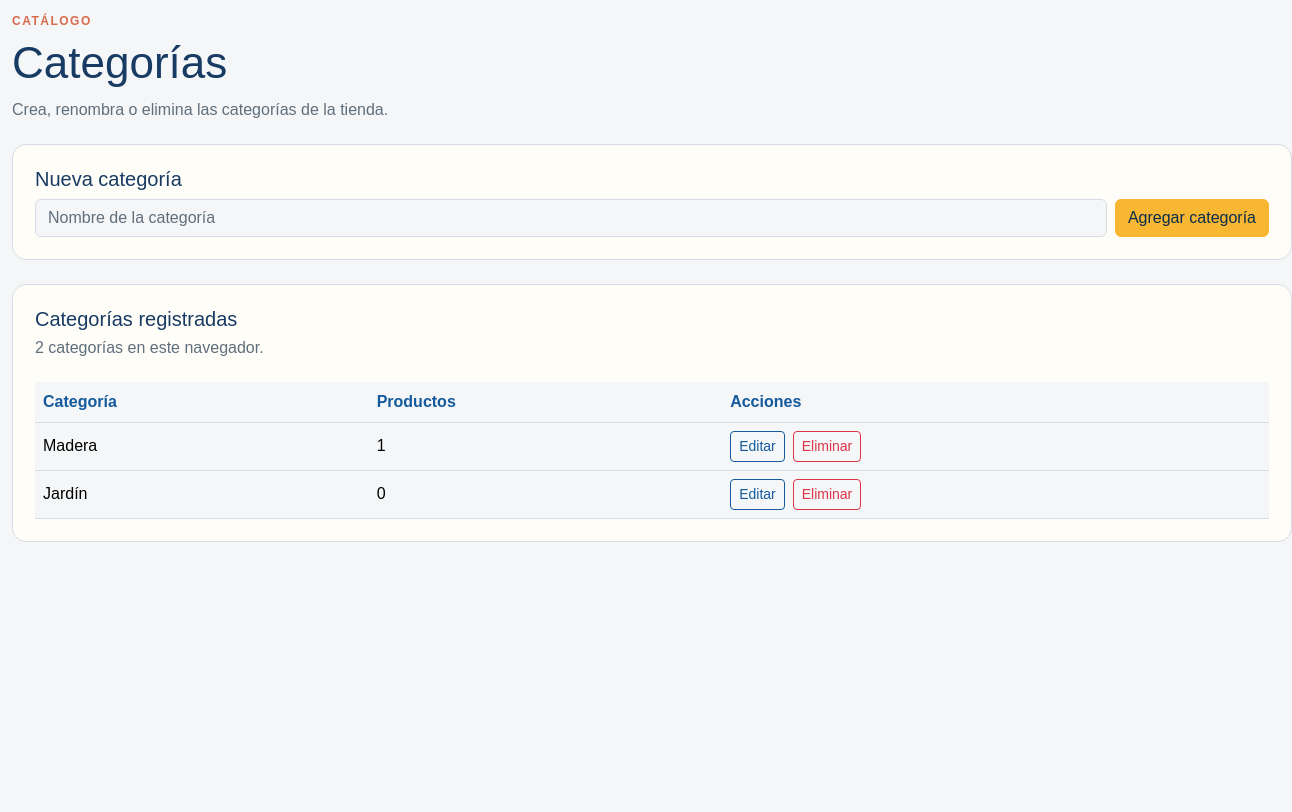
AdminCategoriasContainer › al renombrar actualiza también los productos
The image size is (1292, 812).
Click the button with aria-label "Editar Madera" at (757, 446), box [730, 431, 785, 462]
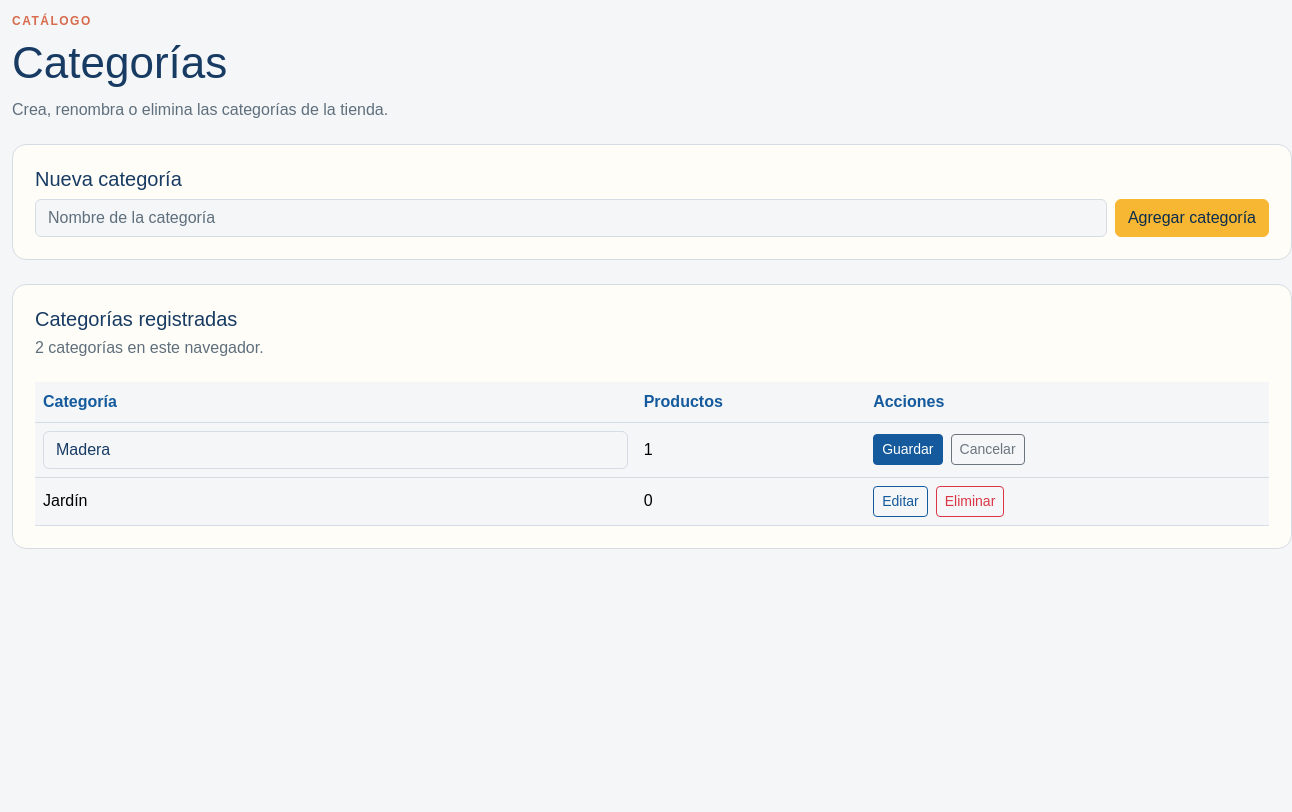
Replace the text in the field named "Nuevo nombre para Madera" with "Maderas" at (335, 450), box [43, 431, 628, 469]
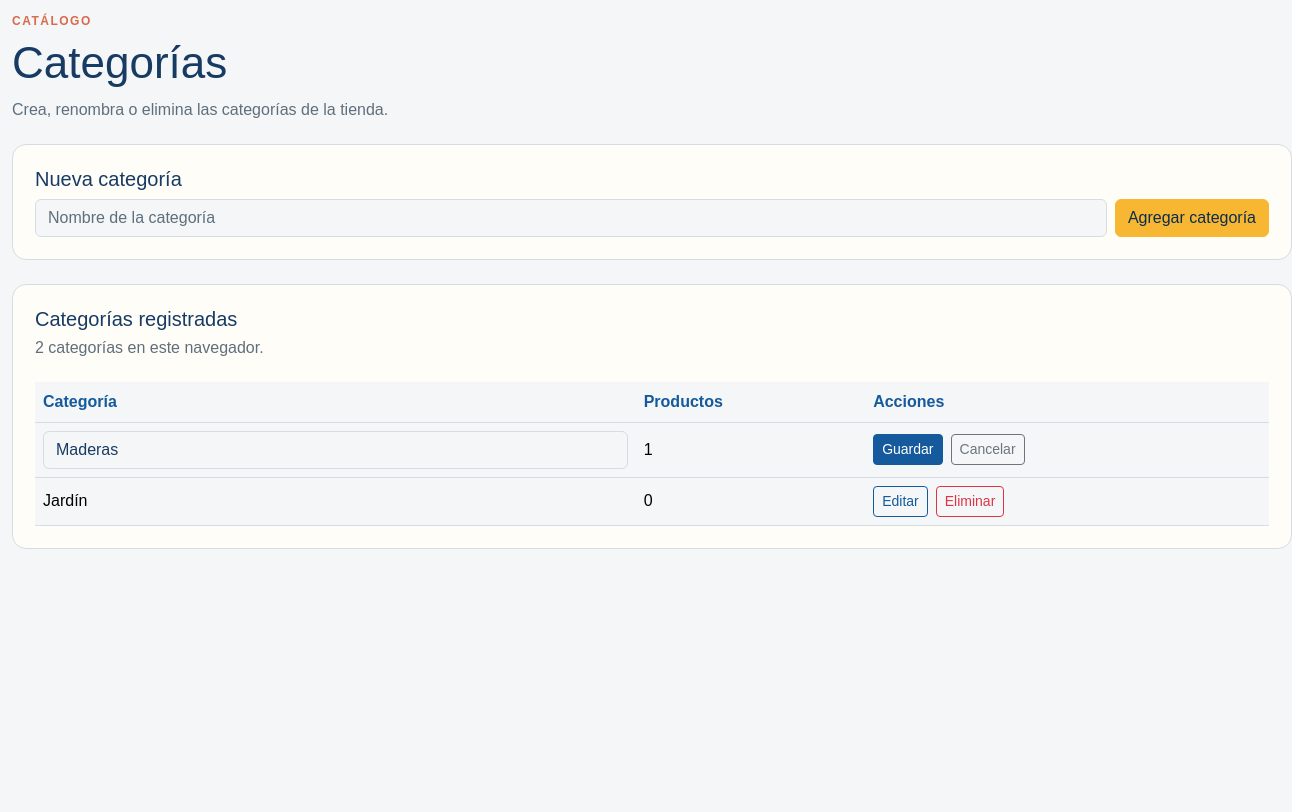
Click the button "Guardar" at (908, 450), box [873, 434, 943, 465]
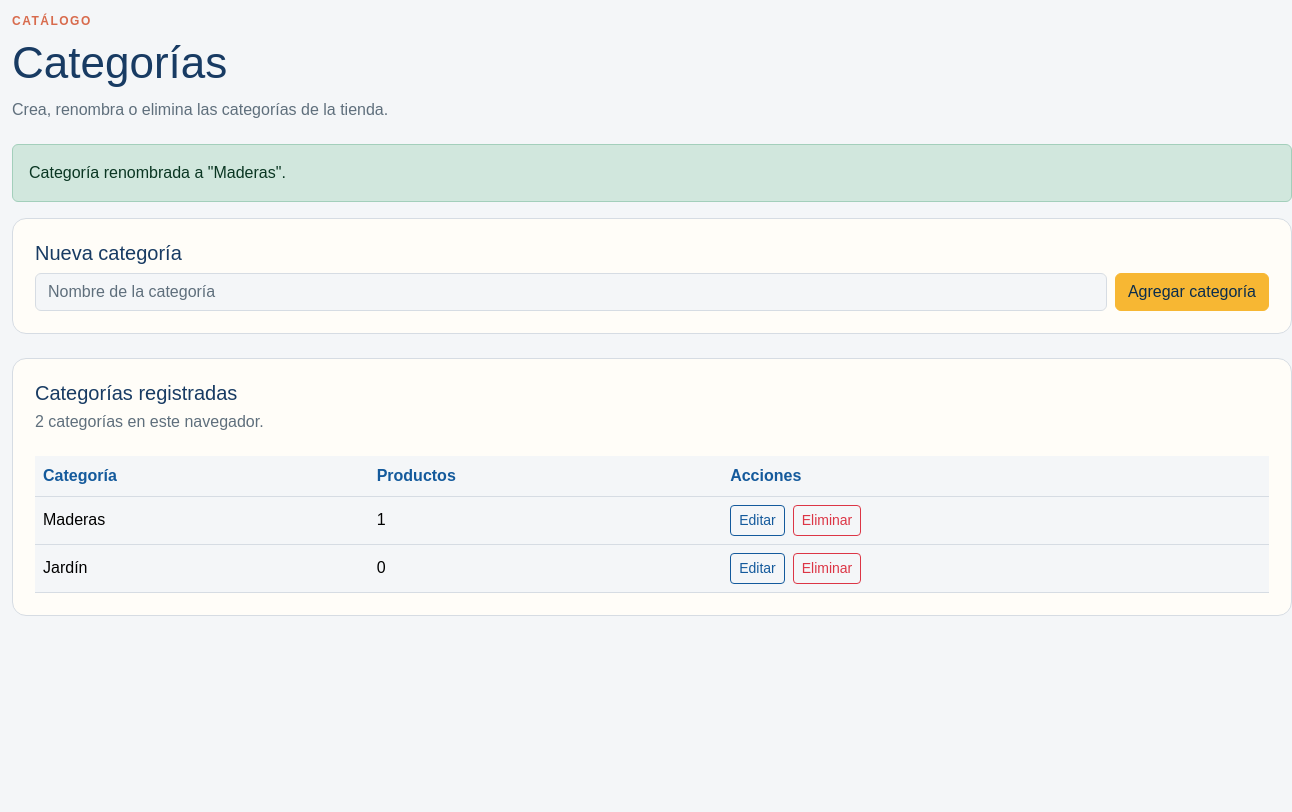
expect the text "Categoría renombrada a \"Maderas\"." is shown: met, box [12, 144, 1291, 202]
expect the cell "Maderas" is shown: met, box [35, 496, 369, 544]
